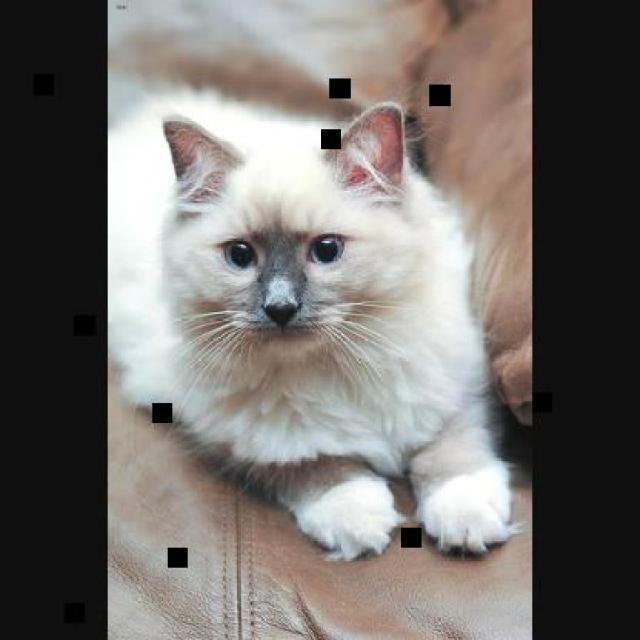unauthorized: (128, 93, 523, 562)
